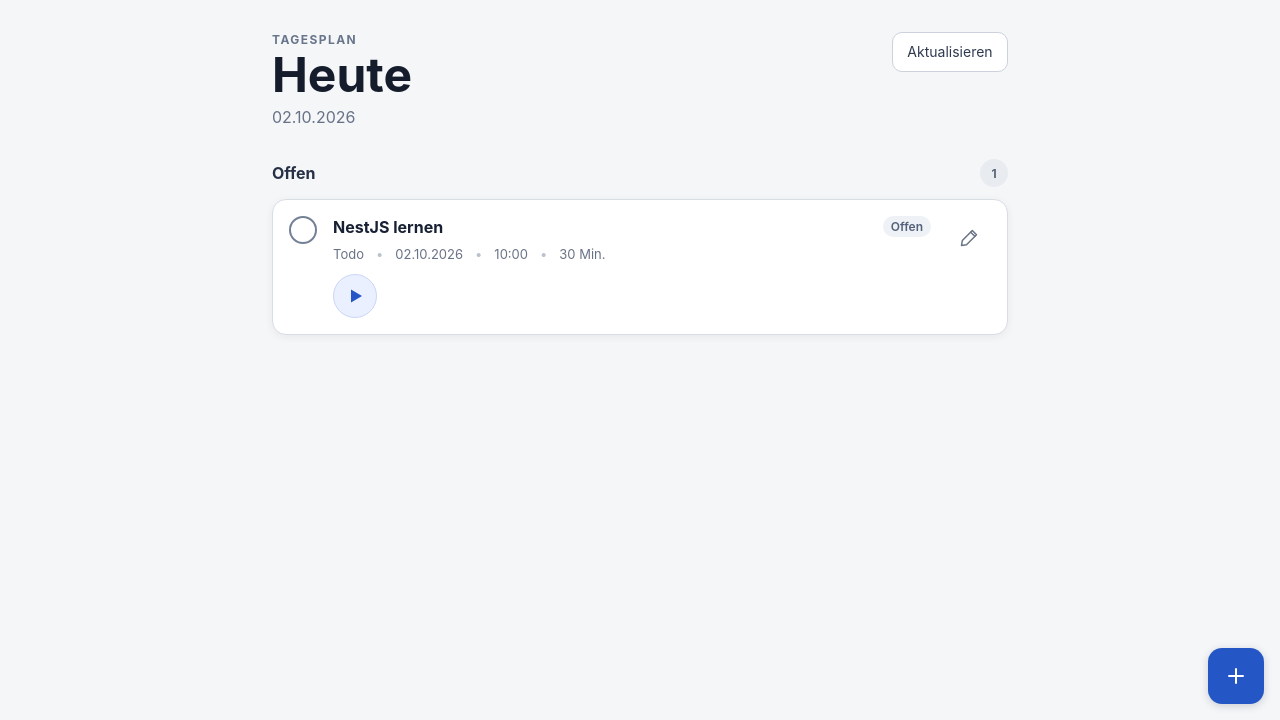
Test: TodayView › shows an update error without reloading the planner
The image size is (1280, 720).
What coordinates should you click on to do the following:
click the button named "NestJS lernen erledigen"
I would click on:
 (303, 230)
Its box is [289, 216, 317, 244].
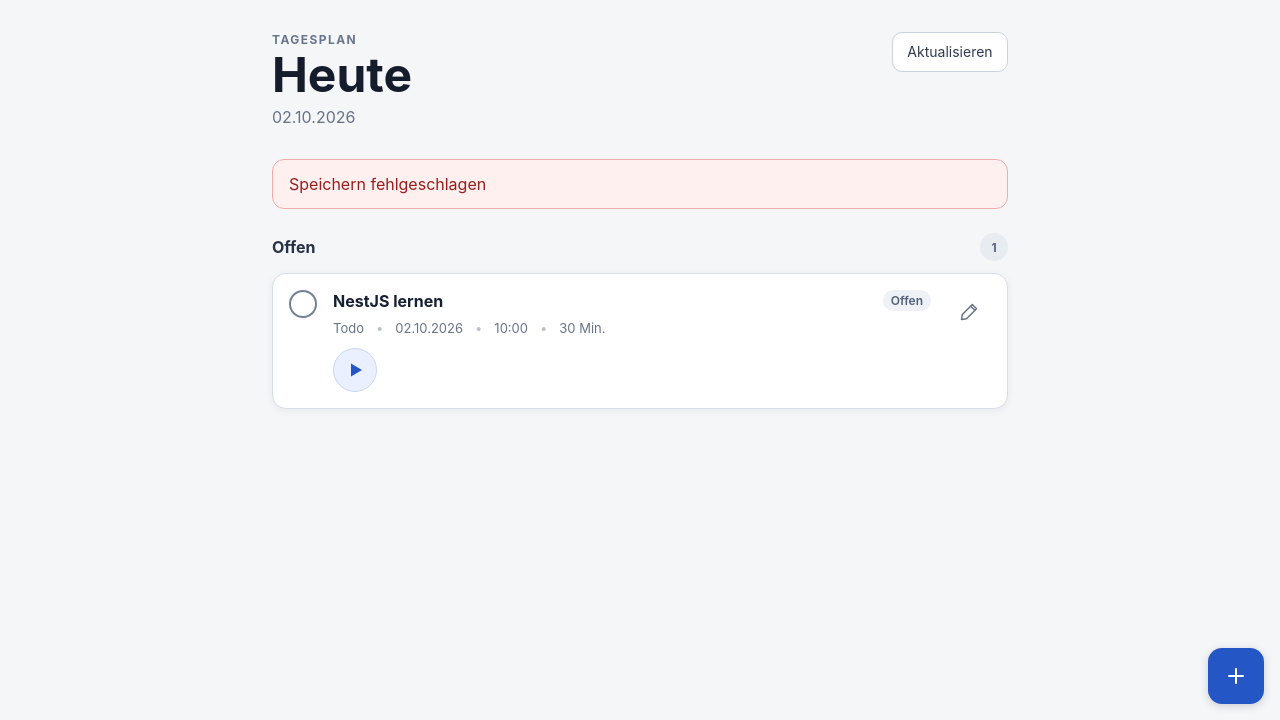
Expected: the text "Offen" is shown, [883, 290, 931, 311]
Expected: the message "Speichern fehlgeschlagen" is shown, [272, 159, 1008, 209]
